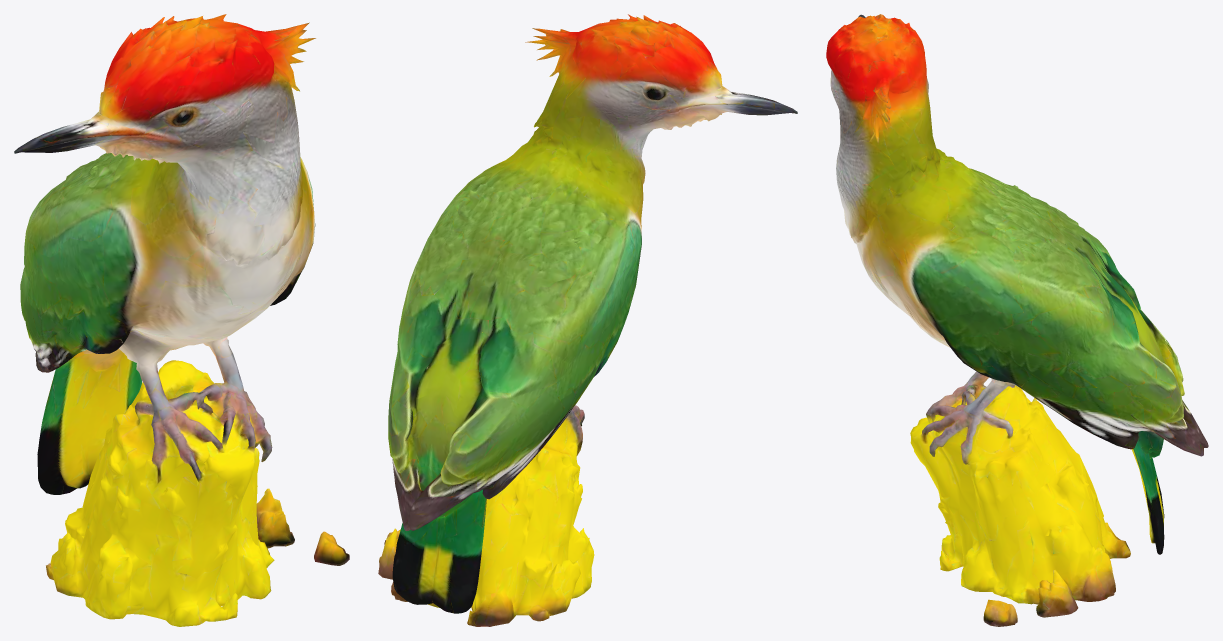
The model's file is bird-groene-specht.glb.
The picture shows the model from 3 angles, left to right: view 1: azimuth 30°, elevation 25°; view 2: azimuth 150°, elevation 25°; view 3: azimuth 270°, elevation 25°; orthographic projection. The views are drawn at different scales.
Bounding box in the file's own units: 1.3 × 1.91 × 1.3.
Materials: 1 (1 with a texture image).
